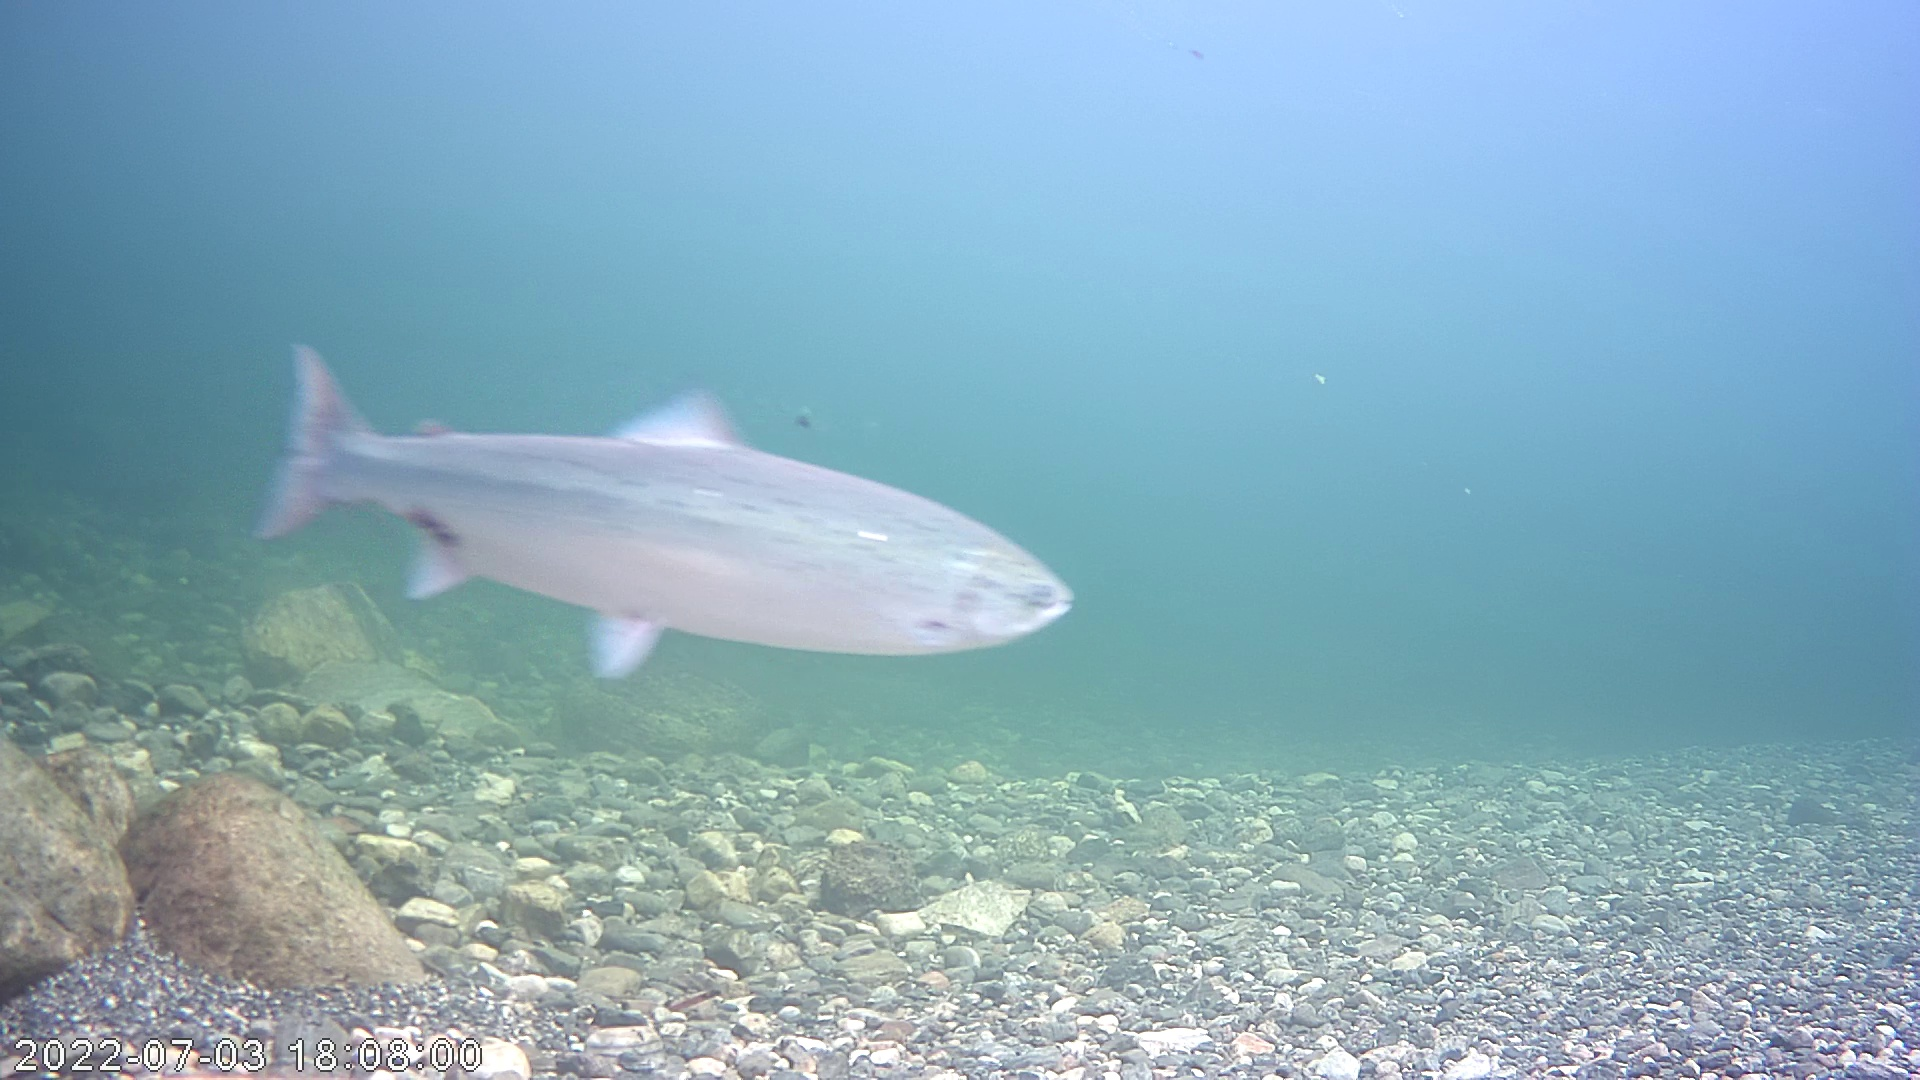salmon: (251, 339, 1077, 684)
